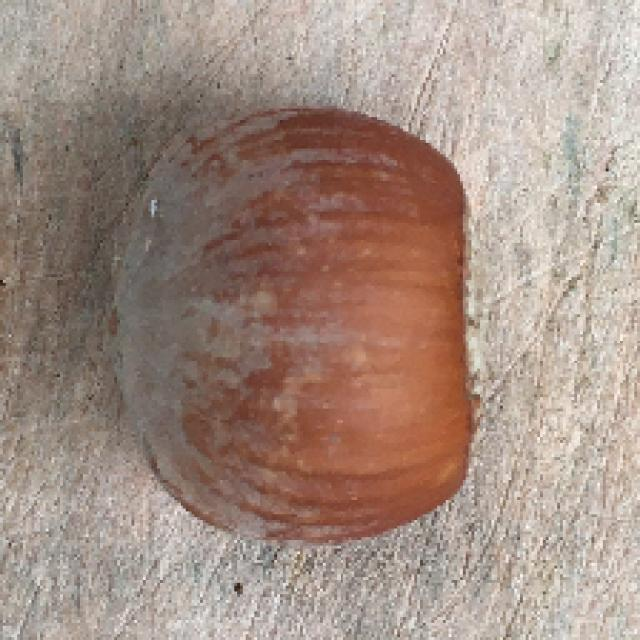QualityHazelnut: (110, 103, 499, 552)
